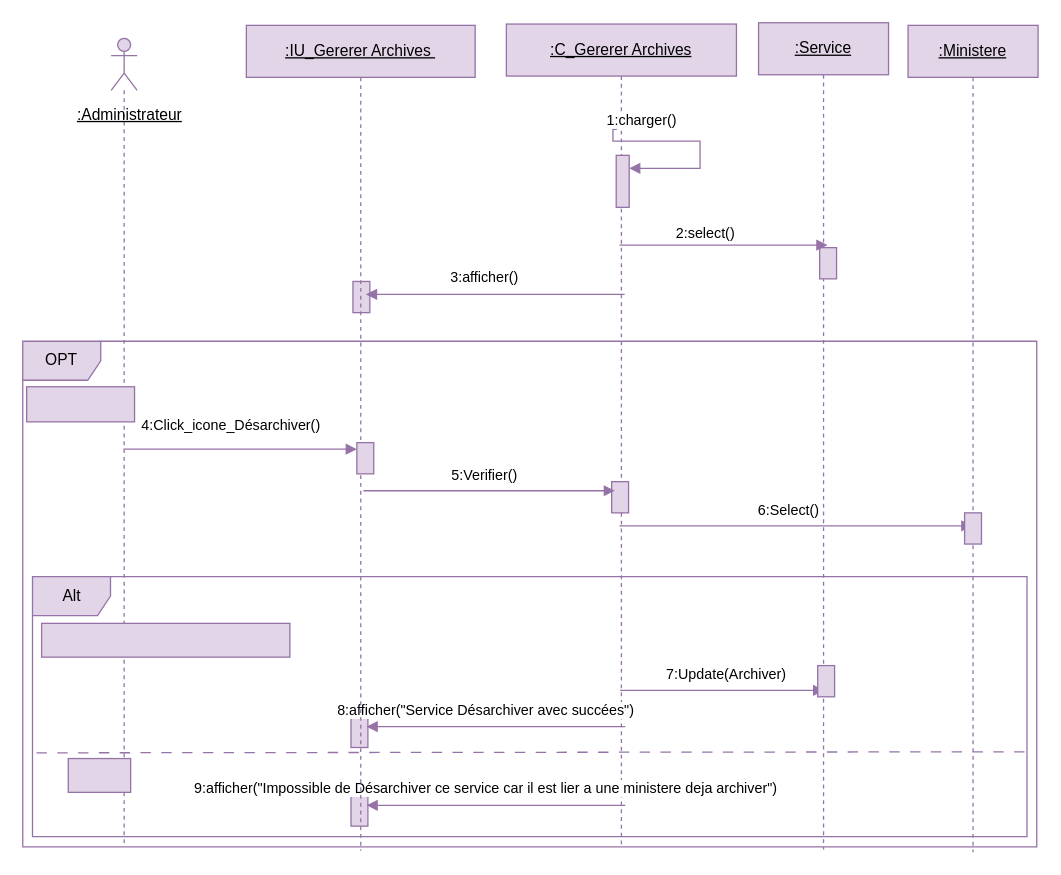
The diagram is 1061 pixels wide and 875 high, and some of its shapes have lost their labels. The shapes that lost their labels are listed below. From the top down, each one's centre as x and y in pixels, then its label:
At (80,403): "[ Désarchiver ]".
At (165,639): "[ministere associer non archiver]".
At (99,774): "[Else]".
